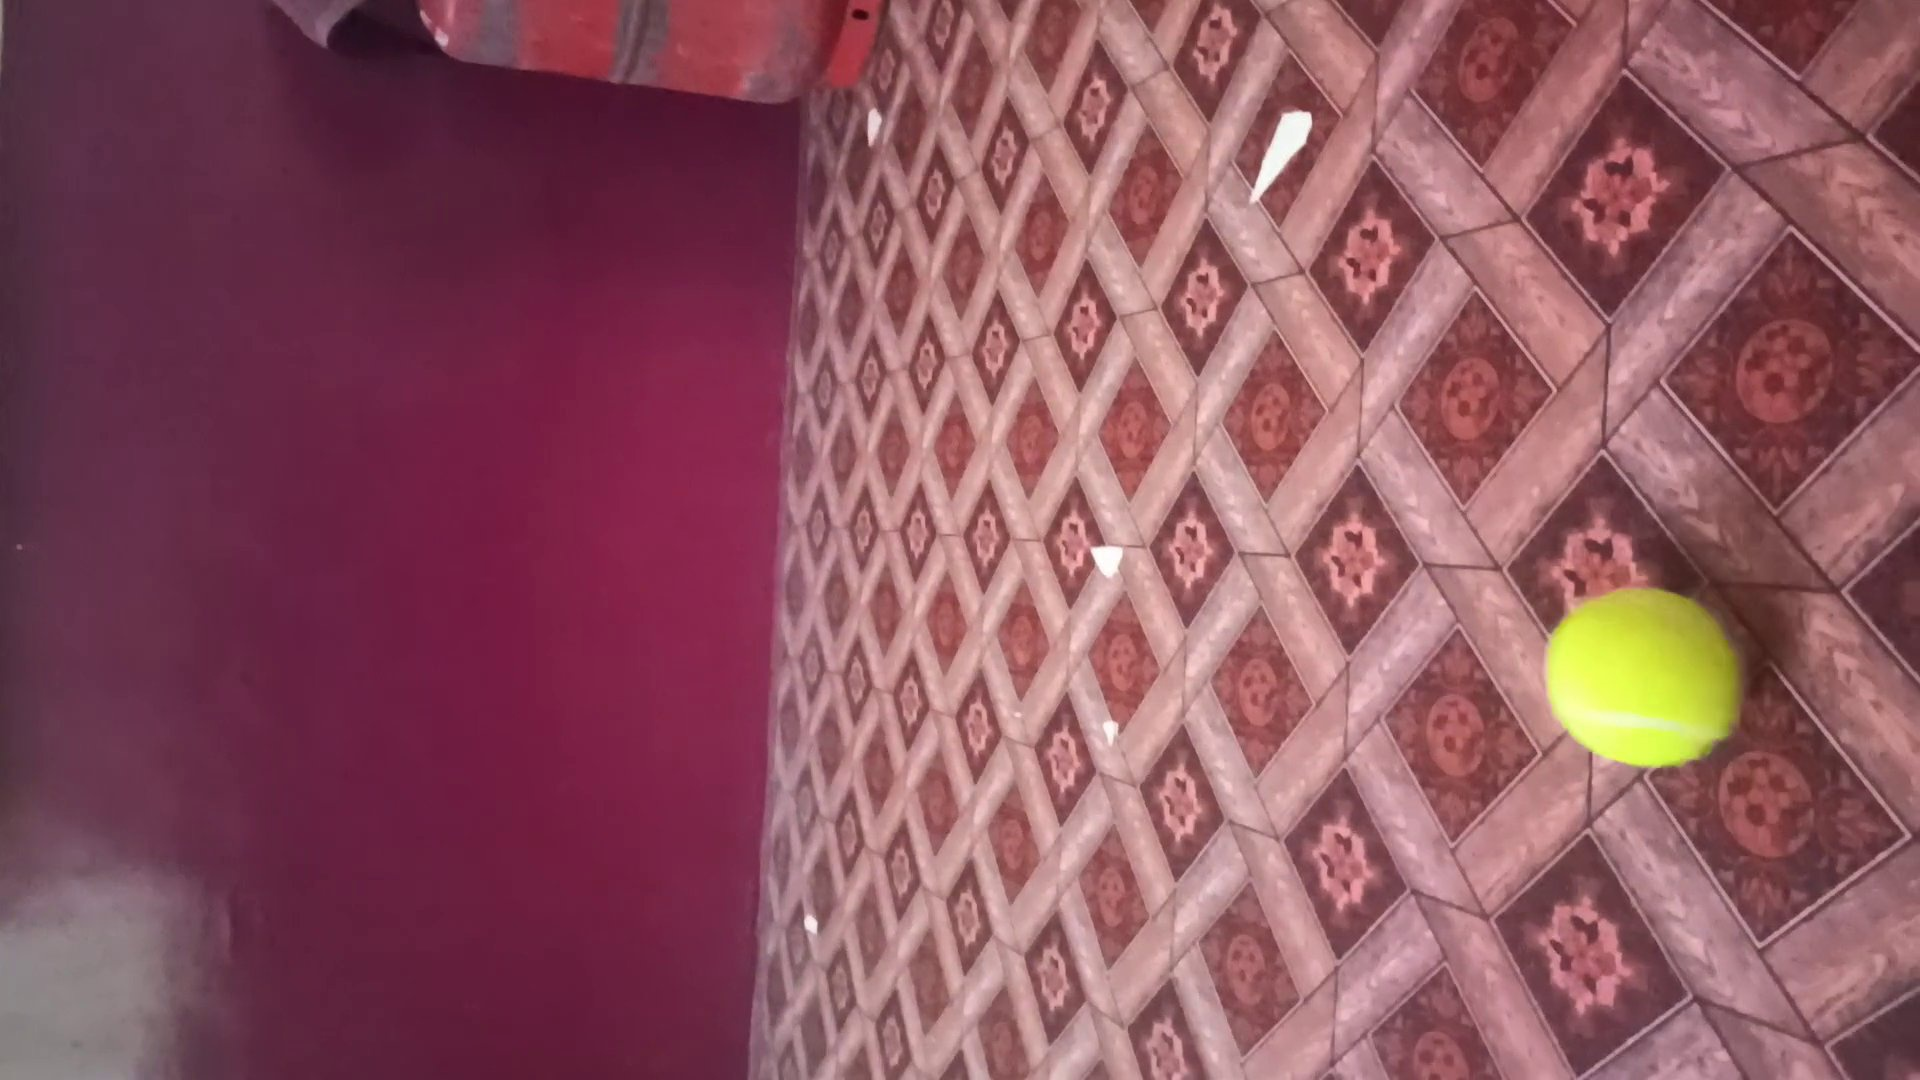Tennis-Ball: (1543, 585, 1747, 769)
